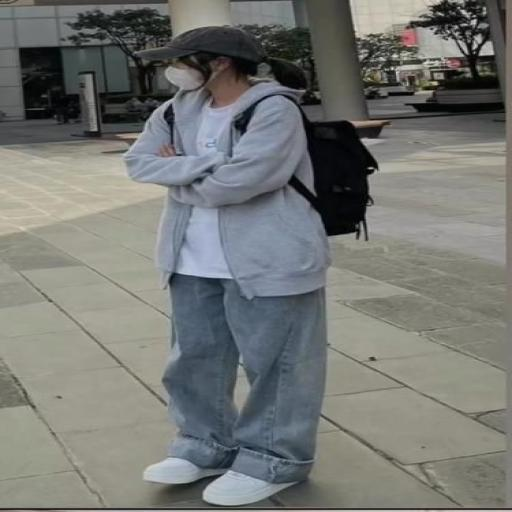crosswalk: (124, 26, 362, 506)
door: (164, 94, 378, 241)
